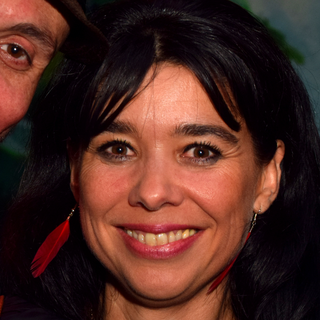eye: (176, 139, 225, 165), (95, 138, 140, 163), (3, 37, 28, 61)
